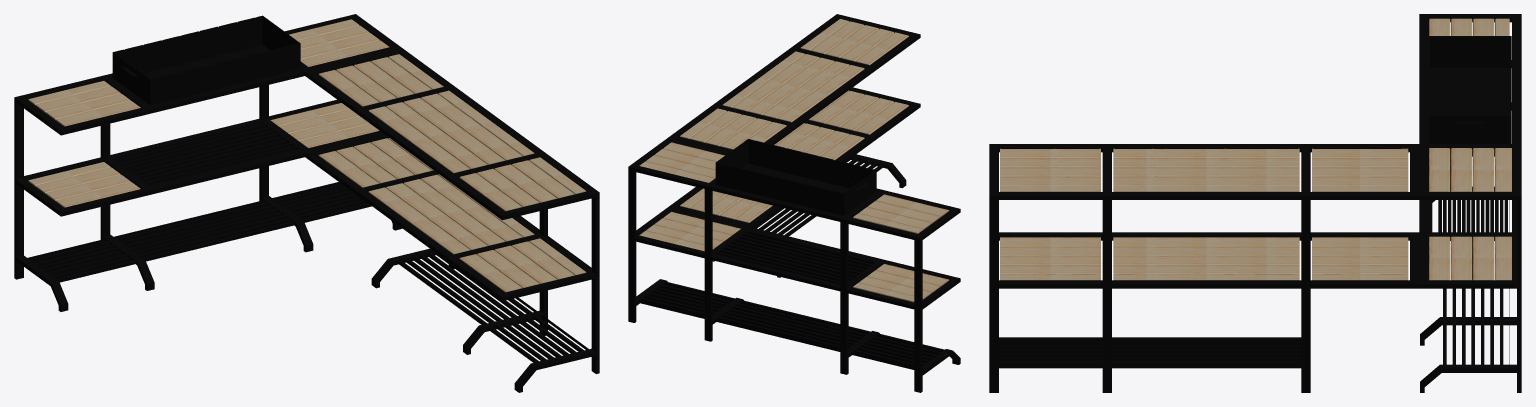
3 views of the same model, side by side, from view 1: azimuth 30°, elevation 25°; view 2: azimuth 150°, elevation 25°; view 3: azimuth 270°, elevation 25° (orthographic). The views are drawn at different scales.
Parts seen in each view (by area): view 1: geometry-lumionModel, geometry-lumionModel.001; view 2: geometry-lumionModel, geometry-lumionModel.001; view 3: geometry-lumionModel, geometry-lumionModel.001.
Part boxes in pixels (x1,y1,x2,y2): geometry-lumionModel: (14, 14, 599, 392); geometry-lumionModel.001: (28, 19, 586, 292); geometry-lumionModel: (628, 14, 960, 392); geometry-lumionModel.001: (639, 19, 949, 302); geometry-lumionModel: (989, 14, 1521, 392); geometry-lumionModel.001: (1000, 18, 1511, 280).
Bounding box in the file's own units: 1.82 × 1.05 × 2.25.
2 materials, 2 textured.
